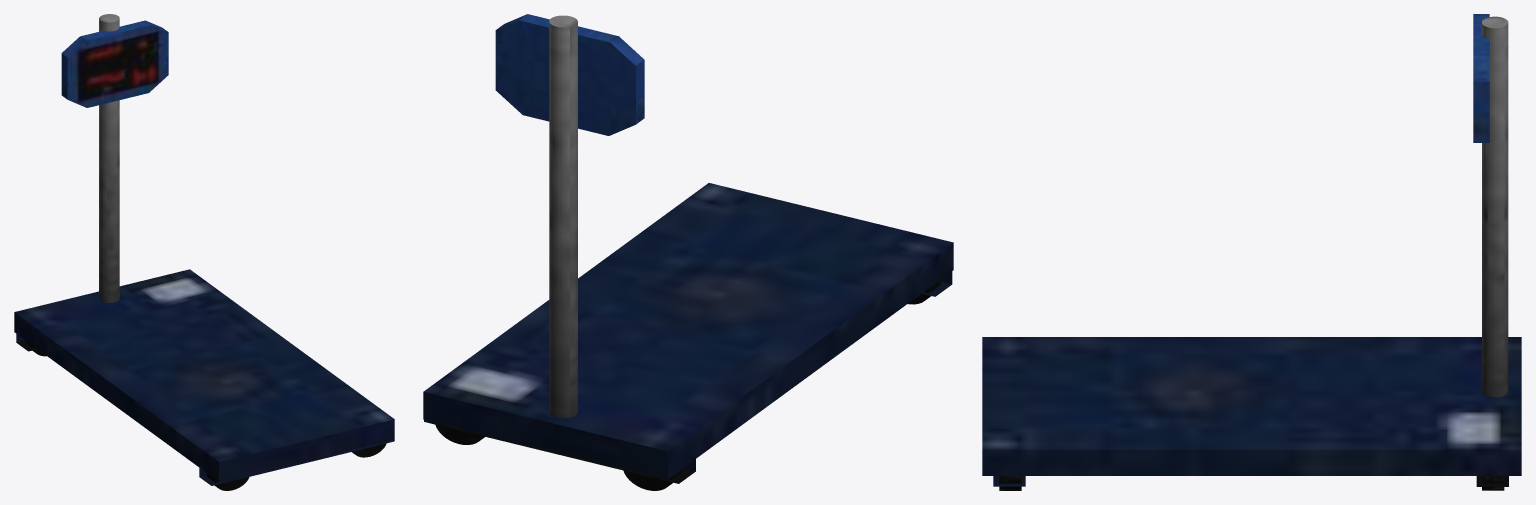
File: animal scales.fbx
3 views of the same model, side by side, from view 1: azimuth 30°, elevation 25°; view 2: azimuth 150°, elevation 25°; view 3: azimuth 270°, elevation 25° (orthographic). The views are drawn at different scales.
Parts seen in each view (by area): view 1: animal scales; view 2: animal scales; view 3: animal scales.
Part boxes in pixels (left/top/right/bottom): animal scales: left=14, top=14, right=394, bottom=490; animal scales: left=423, top=14, right=953, bottom=490; animal scales: left=982, top=14, right=1521, bottom=490.
Size of the model in its own units: 159 by 263 by 307.
